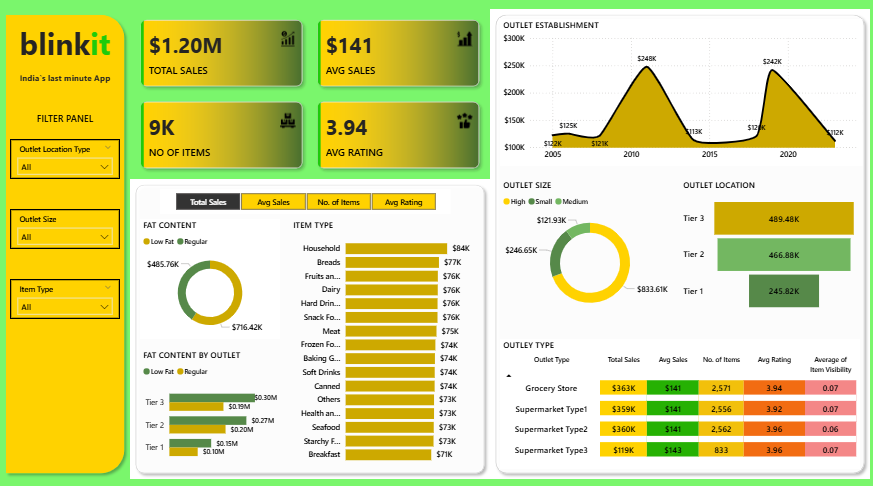

What the dashboard file says about the page in this screenshot:
{"tool":"powerbi","page":{"name":"Page 1","canvas":[1400,800],"ordinal":0},"visuals":[{"type":"shape","box":[0,32,208,752],"z":0},{"type":"textbox","box":[16,48,176,80],"z":1000},{"type":"textbox","box":[16,128,176,32],"z":2000},{"type":"cardVisual","fields":{"Data":["Blinkit Data.Total Sales","Blinkit Data.Avg Sales","Blinkit Data.No. of Items","Blinkit Data.Avg Rating"]},"box":[208,32,576,272],"z":3000},{"type":"shape","box":[208,304,576,480],"z":4000},{"type":"donutChart","title":"FAT CONTENT","fields":{"Y":["Blinkit Data.Total Sales"],"Category":["Blinkit Data.Item Fat Content"]},"box":[224,368,224,192],"z":5000},{"type":"slicer","fields":{"Values":["Metrics.Metrics"]},"box":[256,320,465,40],"z":6000},{"type":"clusteredBarChart","title":"FAT CONTENT BY OUTLET","fields":{"Y":["Blinkit Data.Total Sales"],"Category":["Blinkit Data.Outlet Location Type"],"Series":["Blinkit Data.Item Fat Content"]},"box":[224,576,224,192],"z":7000},{"type":"barChart","title":"ITEM TYPE","fields":{"Y":["Blinkit Data.Total Sales"],"Category":["Blinkit Data.Item Type"]},"box":[464,368,304,400],"z":8000},{"type":"shape","box":[784,32,608,752],"z":9000},{"type":"lineChart","title":"OUTLET ESTABLISHMENT","fields":{"Category":["Blinkit Data.Outlet Establishment Year"],"Y":["Blinkit Data.Total Sales"]},"box":[800,48,580,235],"z":10000},{"type":"donutChart","title":"OUTLET SIZE","fields":{"Y":["Blinkit Data.Total Sales"],"Category":["Blinkit Data.Outlet Size"]},"box":[800,304,288,224],"z":11000},{"type":"funnel","title":"OUTLET LOCATION","fields":{"Category":["Blinkit Data.Outlet Location Type"],"Y":["Sum(Blinkit Data.Sales)"]},"box":[1088,304,288,224],"z":12000},{"type":"pivotTable","title":"OUTLEY TYPE","fields":{"Rows":["Blinkit Data.Outlet Type"],"Values":["Blinkit Data.Total Sales","Blinkit Data.Avg Sales","Blinkit Data.No. of Items","Blinkit Data.Avg Rating","Avg(Blinkit Data.Item Visibility)"]},"box":[800,560,576,208],"z":13000},{"type":"slicer","fields":{"Values":["Blinkit Data.Outlet Location Type"]},"box":[16,240,176,64],"z":14000},{"type":"slicer","fields":{"Values":["Blinkit Data.Outlet Size"]},"box":[16,352,176,64],"z":14001},{"type":"slicer","fields":{"Values":["Blinkit Data.Item Type"]},"box":[16,464,176,64],"z":14002},{"type":"textbox","box":[48,192,112,32],"z":14003}]}

Visuals, with their boxes in screenshot pixels (x1, y1, x2, y2), scaled from the page's 1400x800 canvas onto the 873x486 screenshot:
shape: [left=0, top=19, right=130, bottom=476]
textbox: [left=10, top=29, right=120, bottom=78]
textbox: [left=10, top=78, right=120, bottom=97]
cardVisual - Blinkit Data.Total Sales x Blinkit Data.Avg Sales: [left=130, top=19, right=489, bottom=185]
shape: [left=130, top=185, right=489, bottom=476]
"FAT CONTENT" donutChart: [left=140, top=224, right=279, bottom=340]
slicer - Metrics.Metrics: [left=160, top=194, right=450, bottom=219]
"FAT CONTENT BY OUTLET" clusteredBarChart: [left=140, top=350, right=279, bottom=467]
"ITEM TYPE" barChart: [left=289, top=224, right=479, bottom=467]
shape: [left=489, top=19, right=868, bottom=476]
"OUTLET ESTABLISHMENT" lineChart: [left=499, top=29, right=861, bottom=172]
"OUTLET SIZE" donutChart: [left=499, top=185, right=678, bottom=321]
"OUTLET LOCATION" funnel: [left=678, top=185, right=858, bottom=321]
"OUTLEY TYPE" pivotTable: [left=499, top=340, right=858, bottom=467]
slicer - Blinkit Data.Outlet Location Type: [left=10, top=146, right=120, bottom=185]
slicer - Blinkit Data.Outlet Size: [left=10, top=214, right=120, bottom=253]
slicer - Blinkit Data.Item Type: [left=10, top=282, right=120, bottom=321]
textbox: [left=30, top=117, right=100, bottom=136]
